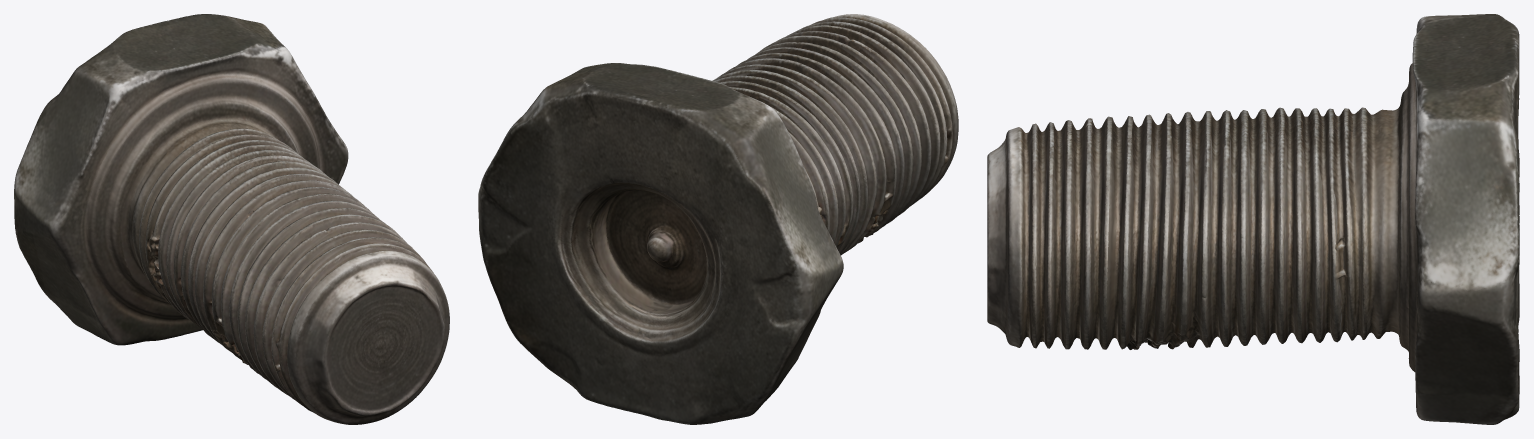
Rendered from Bolt.glb.
The picture shows the model from 3 angles, left to right: view 1: azimuth 30°, elevation 25°; view 2: azimuth 150°, elevation 25°; view 3: azimuth 270°, elevation 25°; orthographic projection. The views are drawn at different scales.
Parts seen in each view (by area): view 1: texture_mapping; view 2: texture_mapping; view 3: texture_mapping.
Boxes of the visible parts, left/top/right/bottom form: texture_mapping: left=14, top=14, right=449, bottom=424; texture_mapping: left=478, top=14, right=958, bottom=424; texture_mapping: left=987, top=14, right=1519, bottom=424.
Size of the model in its own units: 0.7884 by 0.7115 by 0.9997.
Materials: 1 (1 with a texture image).
